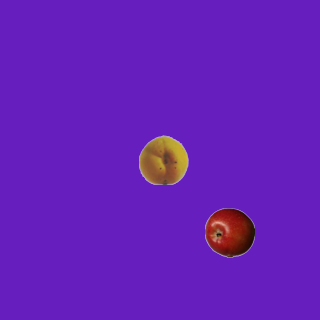Apple Braeburn: (204, 207, 254, 257)
Peach 2: (138, 134, 188, 184)
